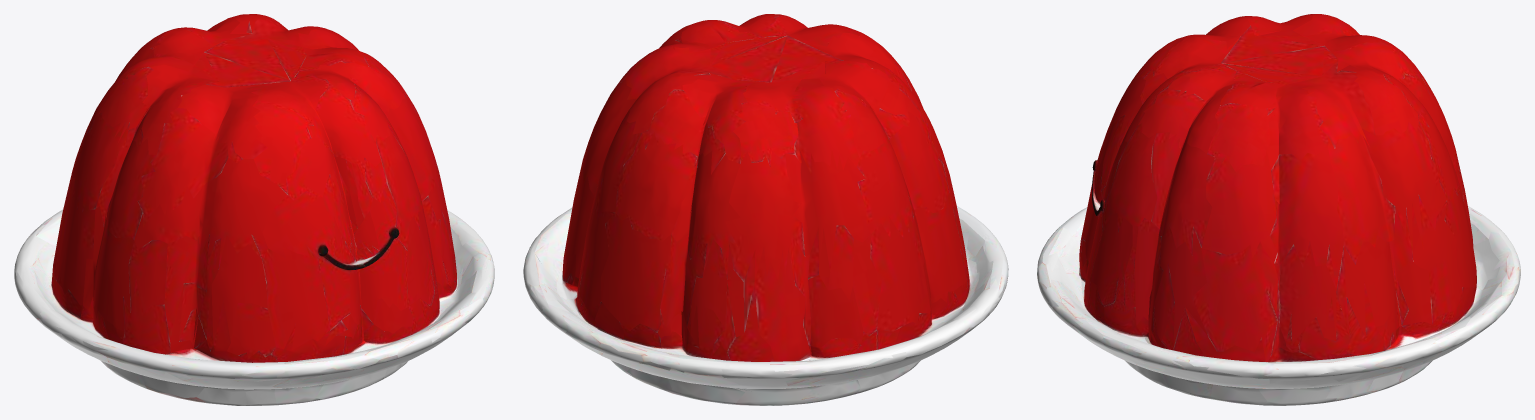
File: jelly.glb
3 renders of one model, left to right at view 1: azimuth 30°, elevation 25°; view 2: azimuth 150°, elevation 25°; view 3: azimuth 270°, elevation 25°, orthographic.
Bounding box in the file's own units: 1.9 × 1.23 × 1.9.
1 material, 1 textured.
